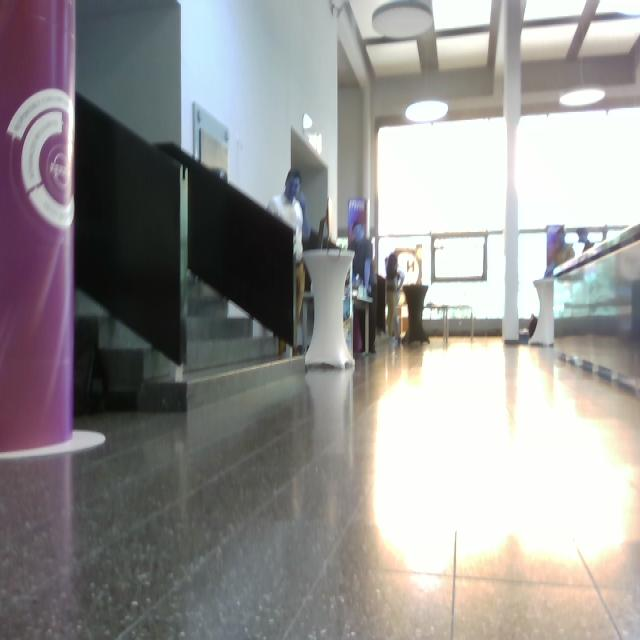light bulb: (371, 1, 434, 41), (559, 58, 606, 108), (405, 100, 449, 124), (559, 88, 606, 108)
person: (266, 169, 308, 357), (348, 221, 378, 357), (385, 251, 405, 343)
pillar: (502, 1, 526, 342)
table: (301, 246, 359, 376)
tiled floor: (2, 329, 639, 638)
